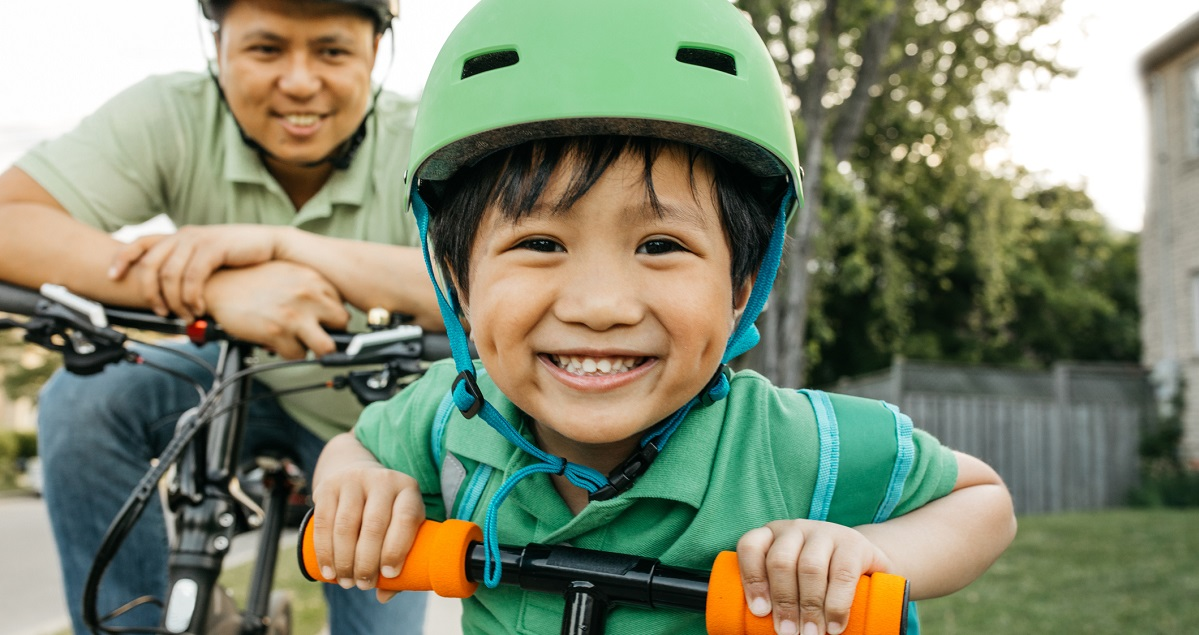helmet: (404, 1, 804, 442)
